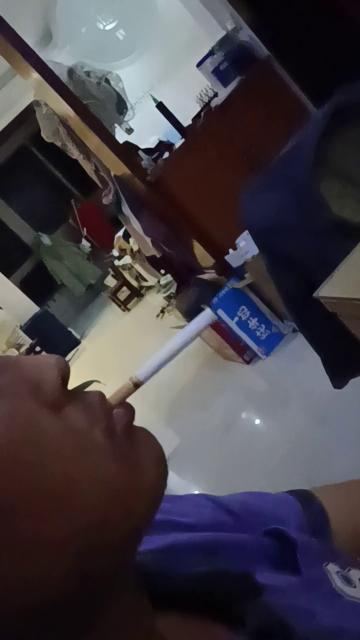Cigarette: (106, 306, 222, 410)
